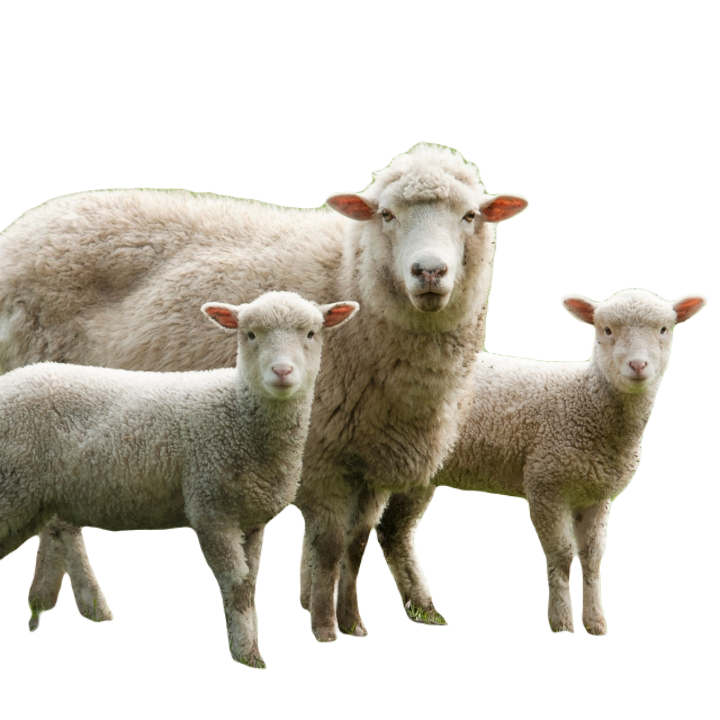Sheep: (0, 292, 362, 671), (470, 283, 711, 640)
